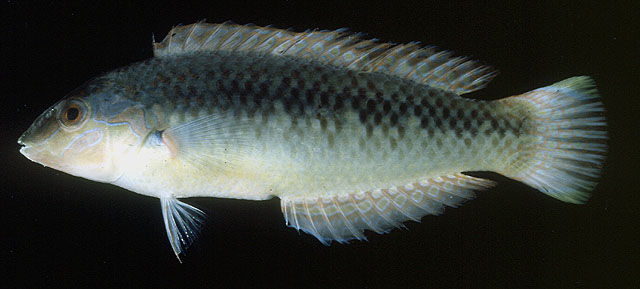fish: (17, 19, 609, 265)
